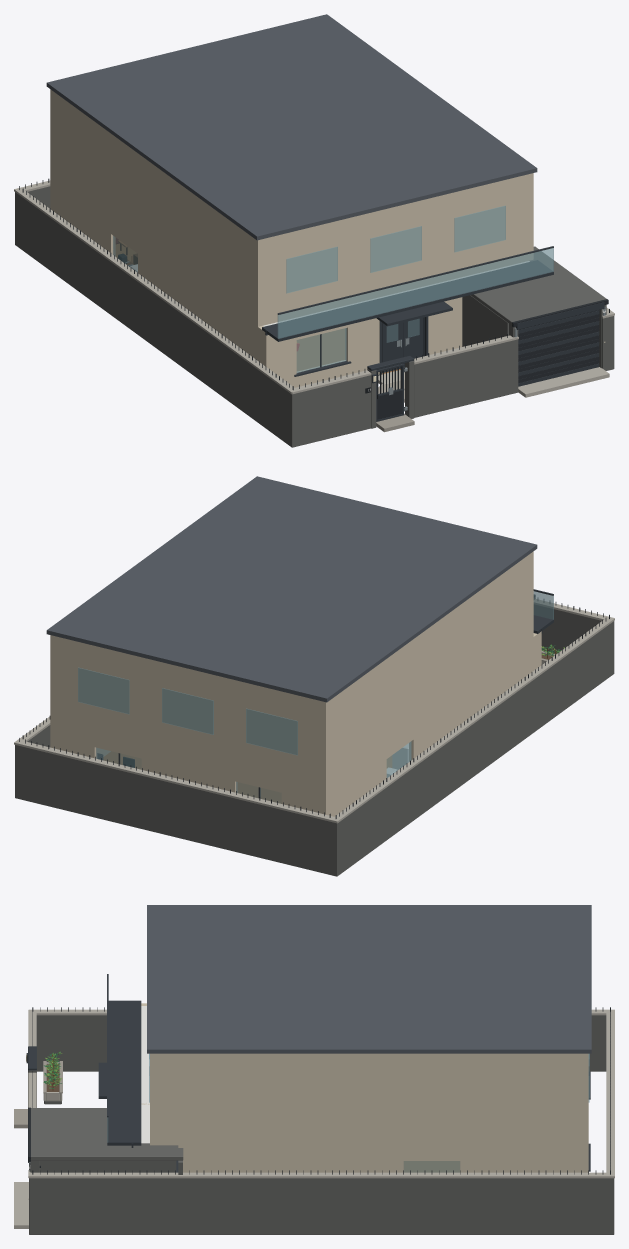
The model's file is Local_Escondite.fbx.
3 renders of one model, top to bottom at view 1: azimuth 30°, elevation 25°; view 2: azimuth 150°, elevation 25°; view 3: azimuth 270°, elevation 25°, orthographic. The views are drawn at different scales.
Visible parts, largest first — view 1: Roof, Upper, PatioWall.003, BalconyGlass, PatioWall.001, Balcony, SideWall, PatioWall, GarageCanopy, PatioCap.003, SideWall.001, UpperWindow (+20 smaller); view 2: Roof, Upper, PatioWall.005, PatioWall.003, SideWall, PatioCap.003, BackWall.001, PatioCap.005, SideWall.001, UpperWindow.001, UpperWindow.005, UpperWindow.003 (+6 smaller); view 3: Roof, Upper, PatioWall.004, SideWall.002, GarageCanopy, Balcony, PatioWall.003, PatioCap.004, SideWall.003, GaragePartition, PatioCap.005, CeilingPanel (+6 smaller).
Boxes of the visible parts, x1,y1,x2,y2 form: Roof: (46,14,537,240); Upper: (50,89,533,326); PatioWall.003: (15,192,291,444); BalconyGlass: (277,248,553,338); PatioWall.001: (414,339,518,417); Balcony: (262,260,553,341); SideWall: (138,239,270,369); PatioWall: (288,375,370,447); GarageCanopy: (470,246,606,325); PatioCap.003: (14,188,294,394); SideWall.001: (50,175,115,255); UpperWindow: (286,246,337,293); Roof: (46,476,537,702); Upper: (50,551,533,788); PatioWall.005: (15,745,340,876); PatioWall.003: (338,621,613,874); SideWall: (409,631,541,761); PatioCap.003: (331,618,614,822); BackWall.001: (141,744,237,792); PatioCap.005: (14,740,341,823); SideWall.001: (325,745,386,816); UpperWindow.001: (246,708,297,755); UpperWindow.005: (78,667,129,714); UpperWindow.003: (162,688,213,734); Roof: (147,905,591,1053); Upper: (150,1053,588,1145); PatioWall.004: (29,1178,613,1234); SideWall.002: (178,1145,403,1172); GarageCanopy: (31,1108,183,1160); Balcony: (107,1000,141,1145); PatioWall.003: (36,1015,606,1071); PatioCap.004: (28,1172,614,1178); SideWall.003: (460,1145,588,1172); GaragePartition: (39,1160,176,1172); PatioCap.005: (606,1009,614,1178); CeilingPanel: (141,1006,149,1143).
Size of the model in its own units: 13.85 by 6.76 by 21.1.
